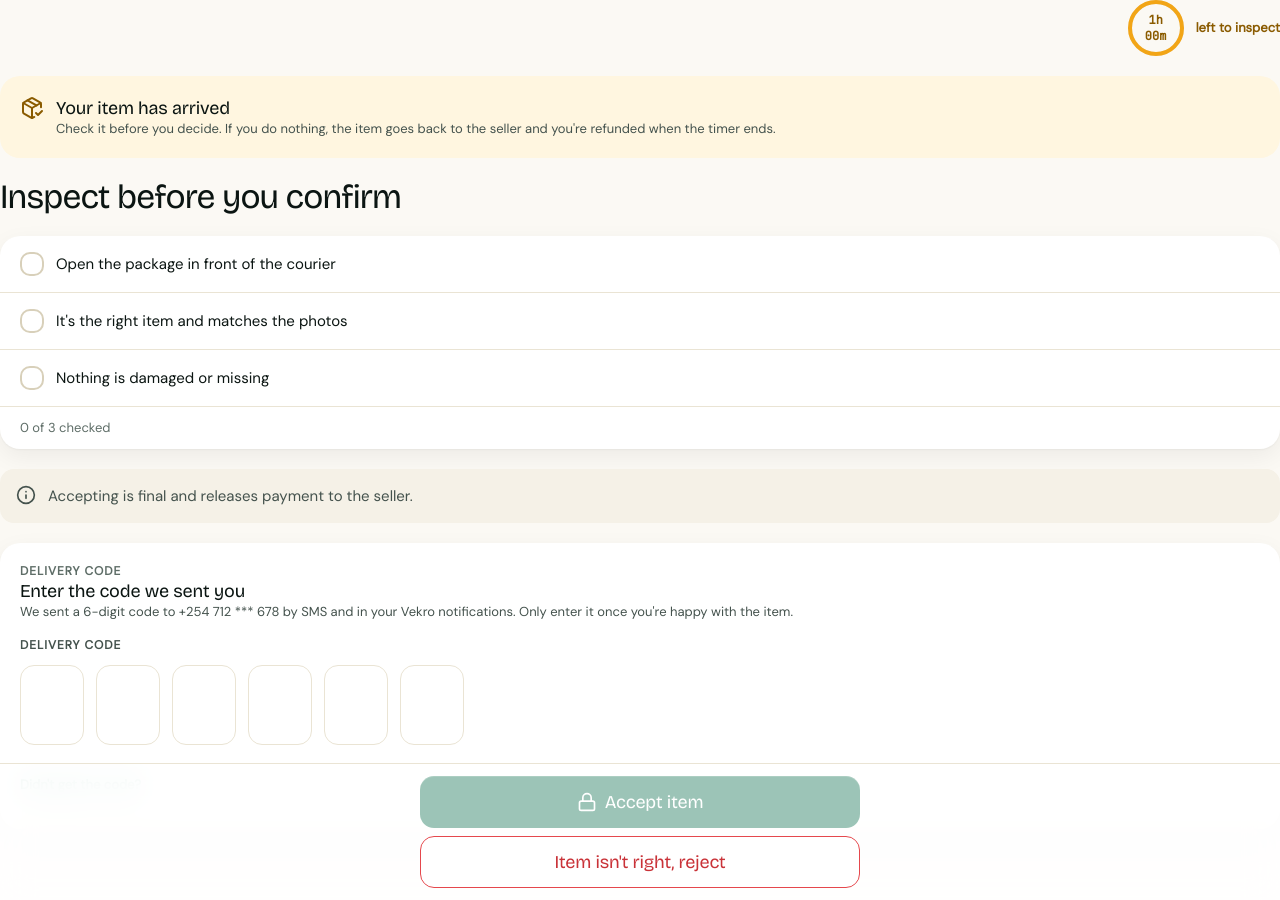
B4 arrival and inspection › rejects with the seller's declared reasons and a note, then shows the refund
Click the button "Item isn't right, reject" at x=640, y=862, box [420,836,860,888]
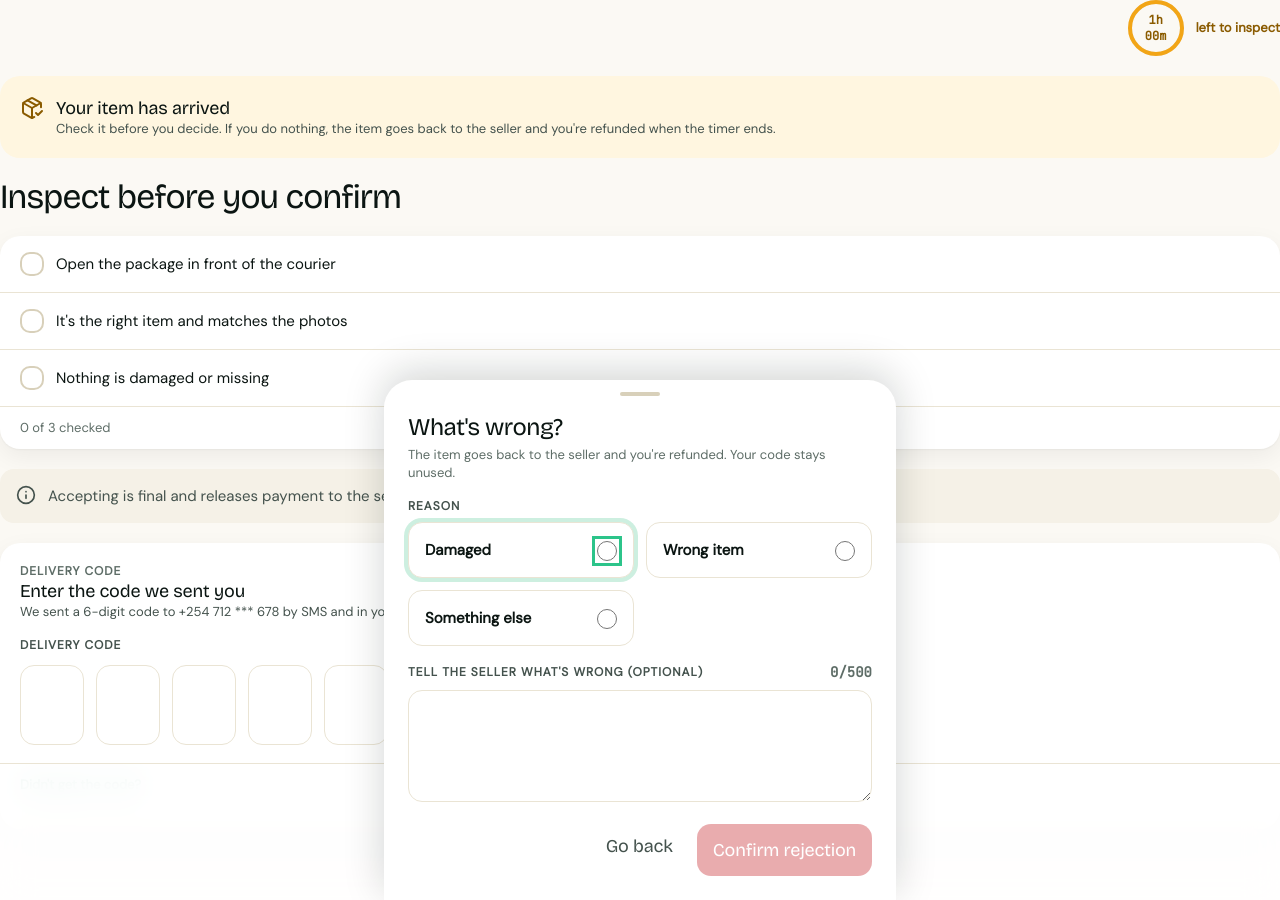
Result: the dialog "What's wrong?" shows "Damaged" at [425,540,491,560]
Result: the dialog "What's wrong?" shows "Wrong item" at [663,540,744,560]
Result: the button "Confirm rejection" is disabled at [697,824,872,876]
Click the radio button labelled "Wrong item" at x=845, y=551, box [835,541,855,561]
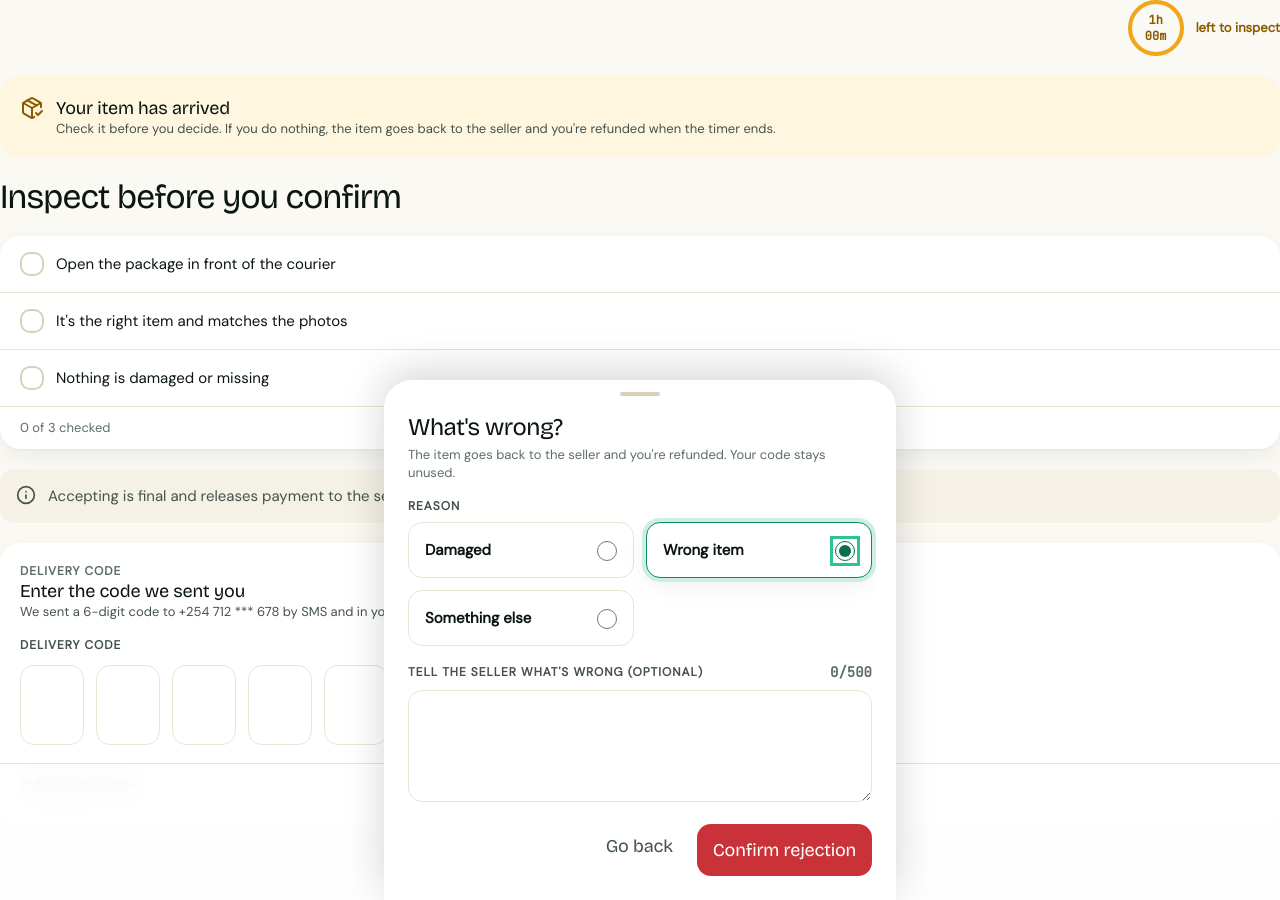
Type "Size 40" into the text box labelled "Tell the seller what's wrong (optional)" at x=640, y=746, box [408,690,872,802]
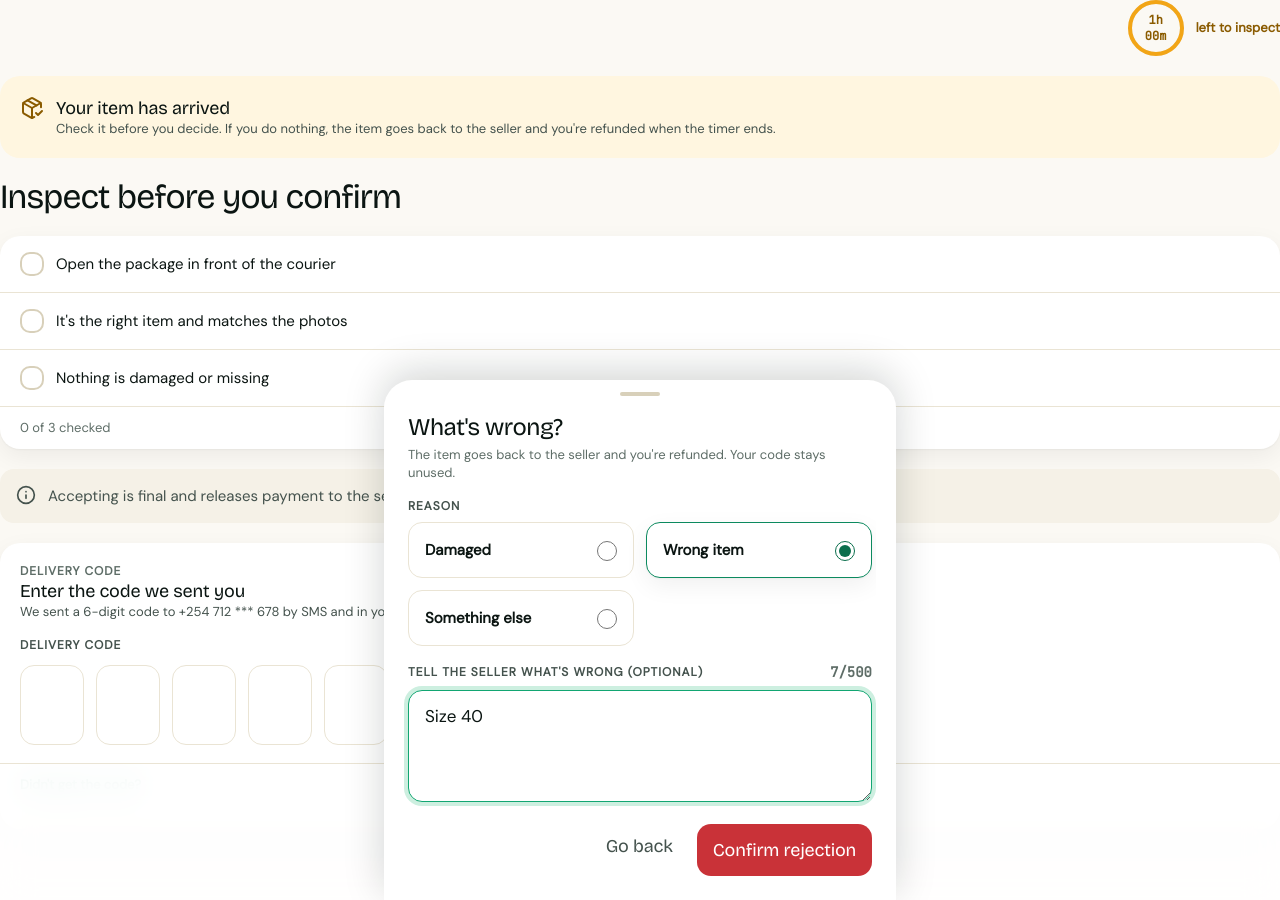
Click the button "Confirm rejection" at x=784, y=850, box [697,824,872,876]
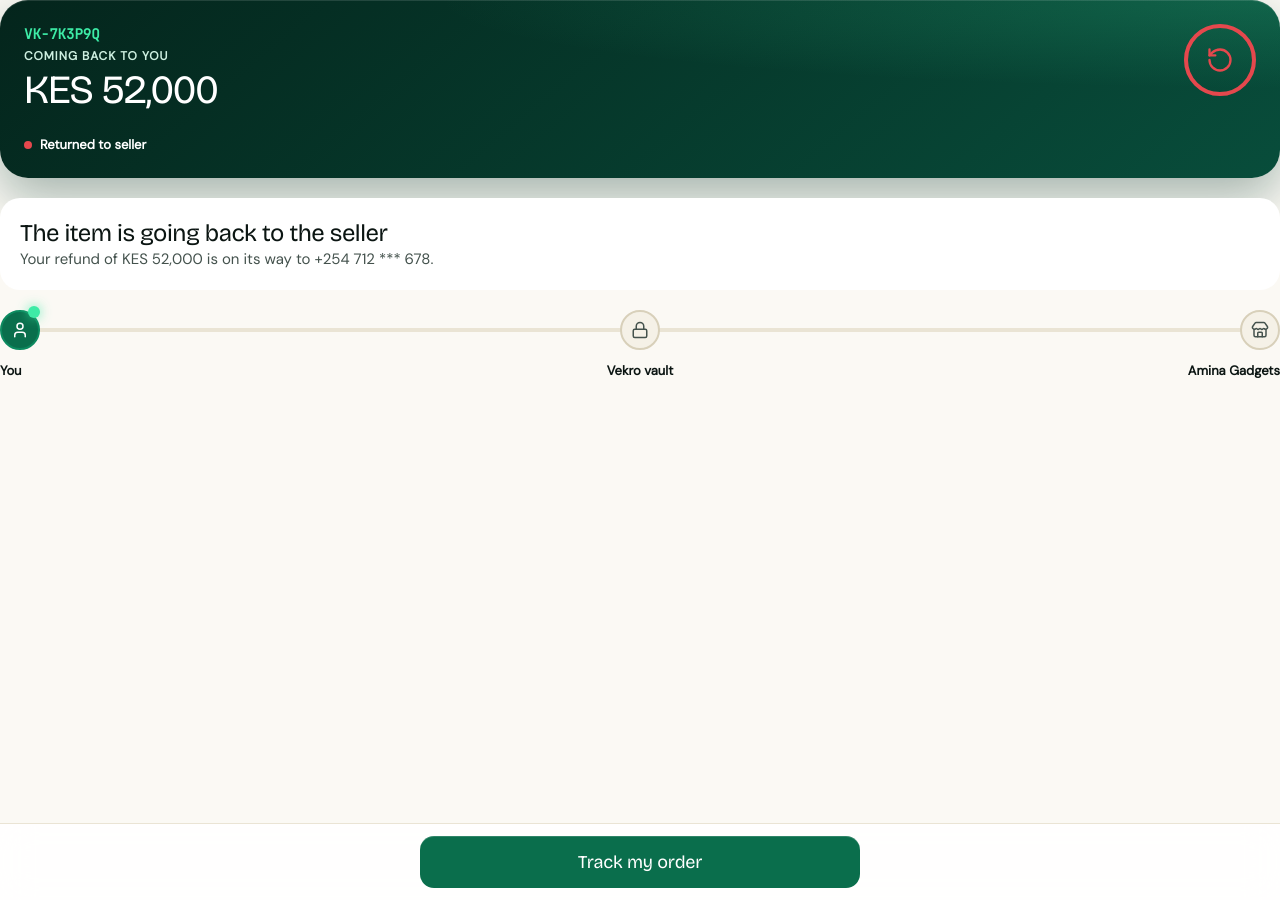
Result: the heading "The item is going back to the seller" is shown at [20,219,387,247]
Result: the text "Your refund of KES 52,000 is on its way to +254 712 *** 678." is shown at [20,249,434,269]
